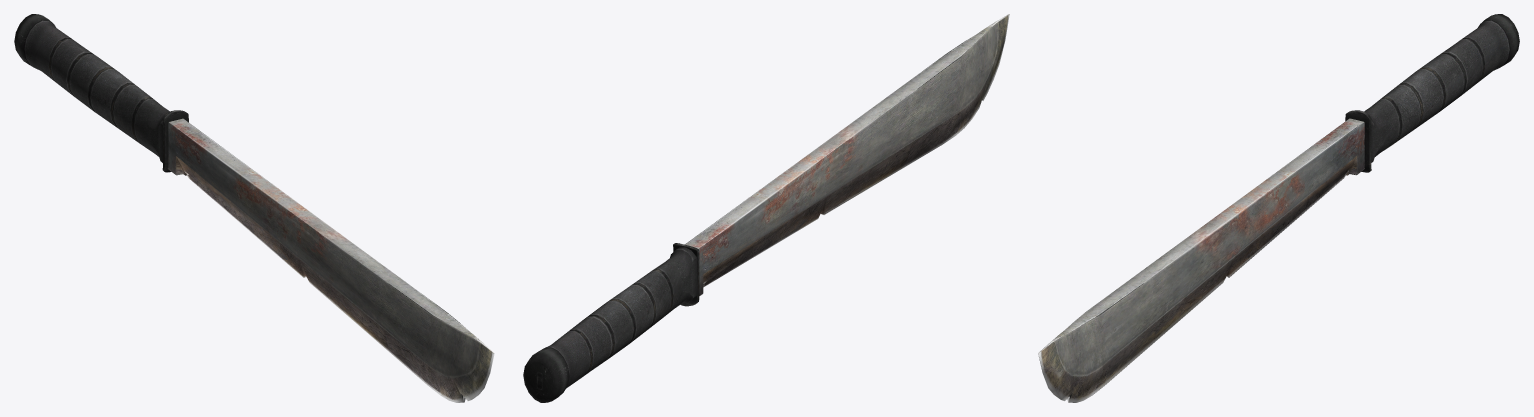
The model's file is machete.obj.
The picture shows the model from 3 angles, left to right: view 1: azimuth 30°, elevation 25°; view 2: azimuth 150°, elevation 25°; view 3: azimuth 330°, elevation 25°; orthographic projection.
Bounding box in the file's own units: 0.06 × 0.1327 × 1.27.
1 material, 1 textured.
